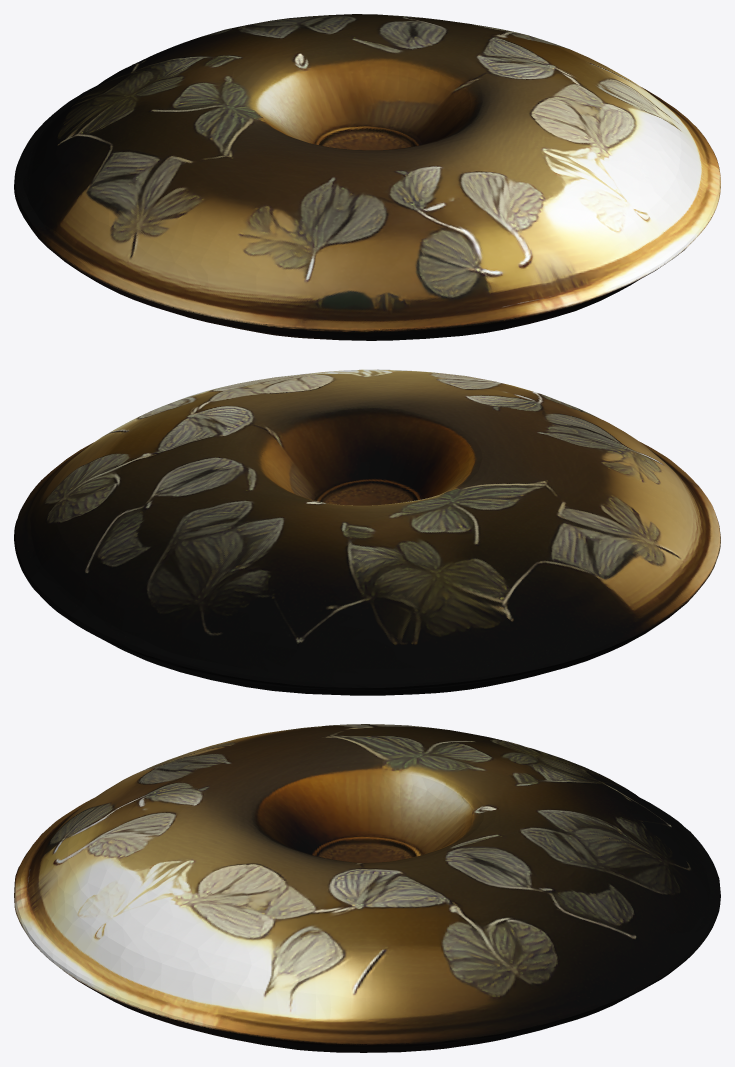
Rendered from pressed-leaf-handpan-new-style.jpeg.glb.
The picture shows the model from 3 angles, top to bottom: view 1: azimuth 30°, elevation 25°; view 2: azimuth 150°, elevation 25°; view 3: azimuth 270°, elevation 25°; orthographic projection.
Visible parts, largest first — view 1: world; view 2: world; view 3: world.
Part boxes in pixels (x1,y1,x2,y2): world: [14, 14, 720, 340]; world: [14, 369, 720, 695]; world: [14, 724, 720, 1052].
Size of the model in its own units: 1 by 0.1961 by 1.
Materials: 1 (1 with a texture image).
